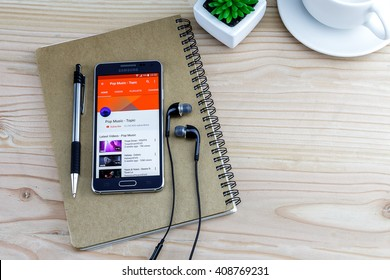Cell Phone: (94, 62, 164, 192)
